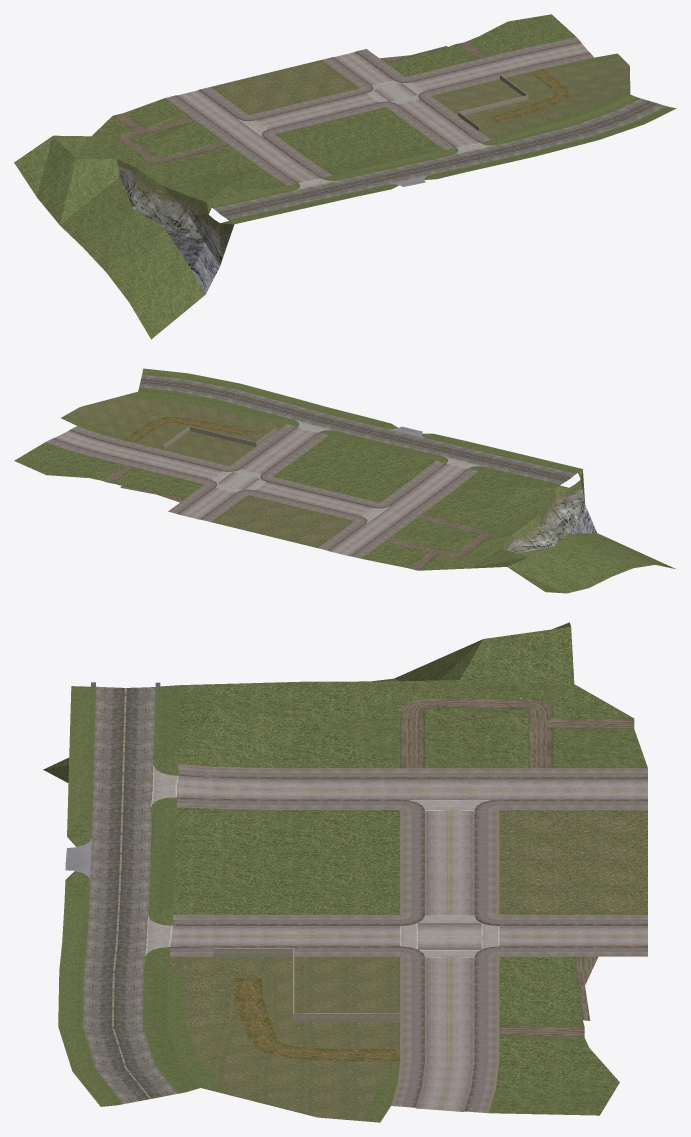
File: n_bit_09.obj
3 renders of one model, top to bottom at view 1: azimuth 30°, elevation 25°; view 2: azimuth 150°, elevation 25°; view 3: azimuth 270°, elevation 25°, orthographic. The views are drawn at different scales.
Visible parts, largest first — view 1: n_bit_09; view 2: n_bit_09; view 3: n_bit_09.
Boxes of the visible parts, box(x1,y1,x2,y2) form: n_bit_09: box(14, 14, 676, 339); n_bit_09: box(14, 368, 676, 593); n_bit_09: box(43, 622, 647, 1122).
Bounding box in the file's own units: 248 × 40.03 × 122.
Materials: 20 (20 with a texture image).
